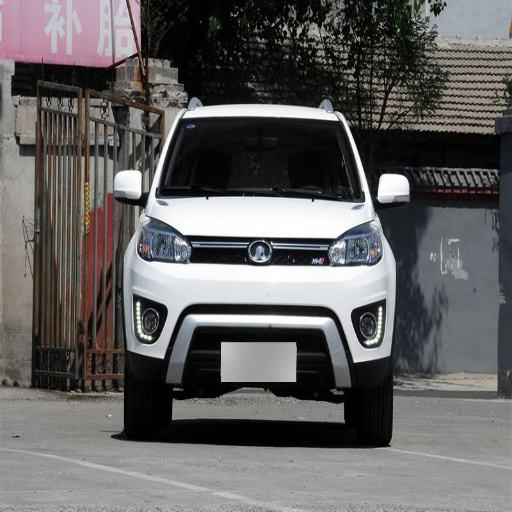front_bumper: (125, 236, 395, 395)
front_right_light: (137, 217, 191, 263)
hood: (149, 196, 371, 238)
left_mirror: (376, 174, 412, 208)
